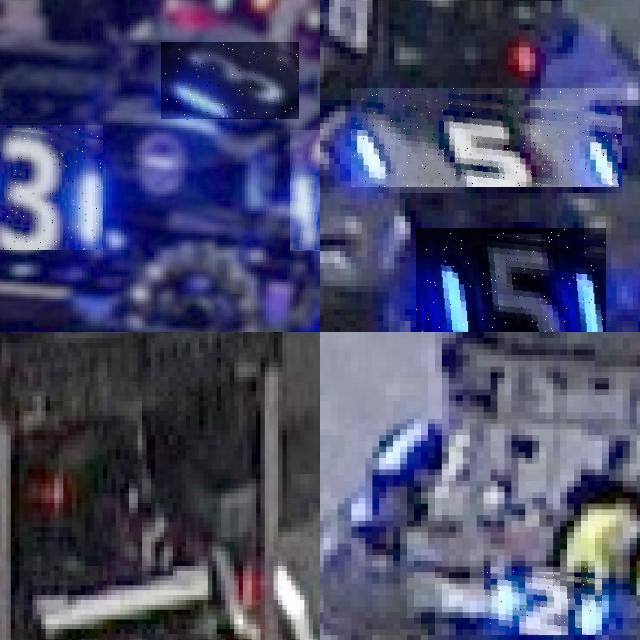B2: (483, 567, 602, 635)
B3: (0, 125, 103, 249), (161, 42, 299, 120), (290, 130, 320, 252)
B5: (351, 88, 622, 187), (416, 228, 606, 332)
